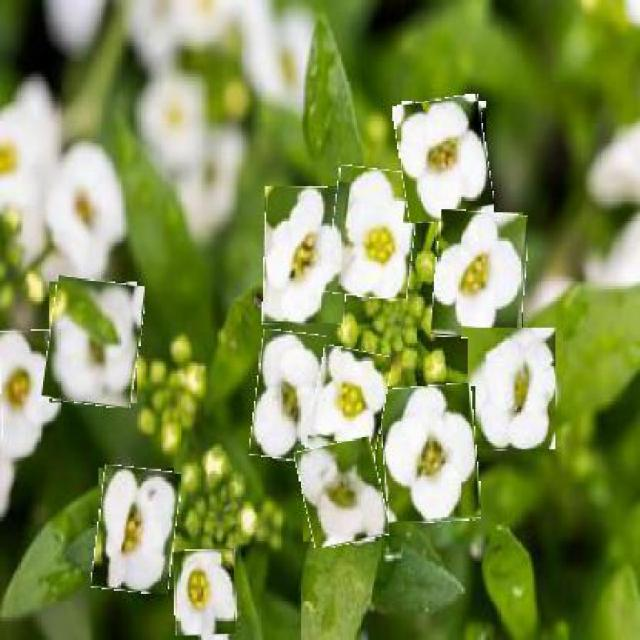Flower: (382, 385, 480, 524), (46, 279, 143, 408), (434, 211, 528, 340), (397, 97, 492, 223), (263, 186, 348, 326), (329, 167, 417, 299), (468, 328, 557, 451), (96, 466, 179, 594), (299, 439, 386, 547), (254, 331, 325, 460), (309, 348, 388, 459), (1, 330, 61, 459), (175, 550, 238, 638)
